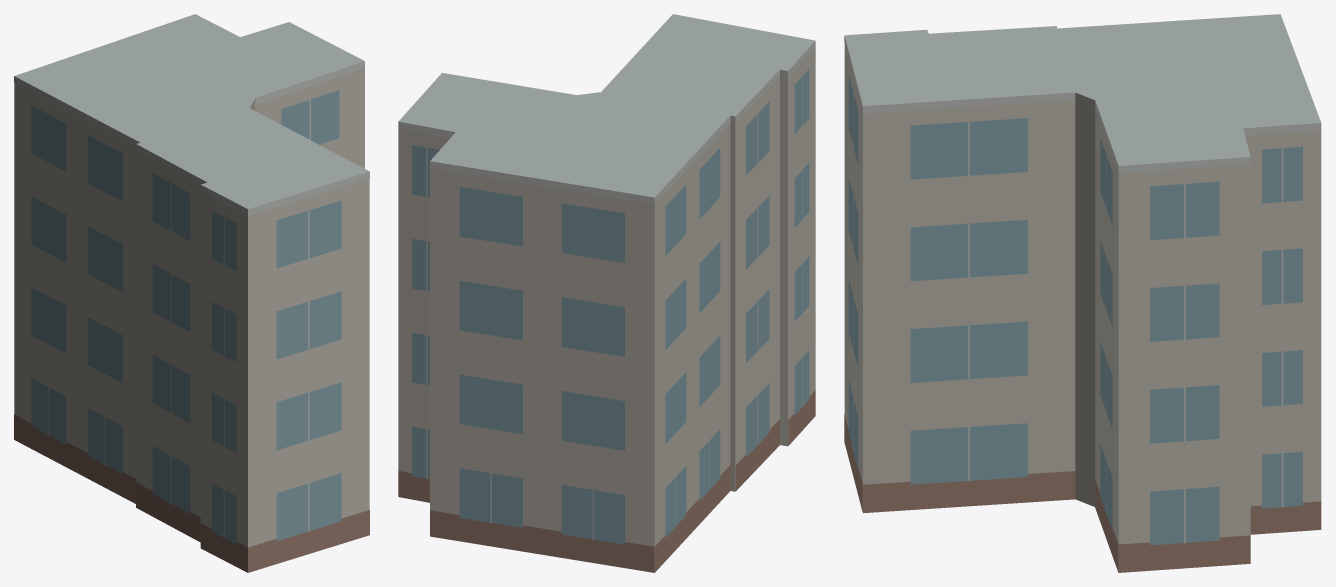
Rendered from survey-upis-32897455.glb.
3 renders of one model, left to right at view 1: azimuth 30°, elevation 25°; view 2: azimuth 150°, elevation 25°; view 3: azimuth 270°, elevation 25°, orthographic. The views are drawn at different scales.
Visible parts, largest first — view 1: survey-upis-32897455.tmp; view 2: survey-upis-32897455.tmp; view 3: survey-upis-32897455.tmp.
Boxes of the visible parts, x1,y1,x2,y2 form: survey-upis-32897455.tmp: (14, 14, 369, 572); survey-upis-32897455.tmp: (398, 14, 815, 572); survey-upis-32897455.tmp: (844, 14, 1321, 572).
Bounding box in the file's own units: 10.75 × 13.4 × 14.24.
